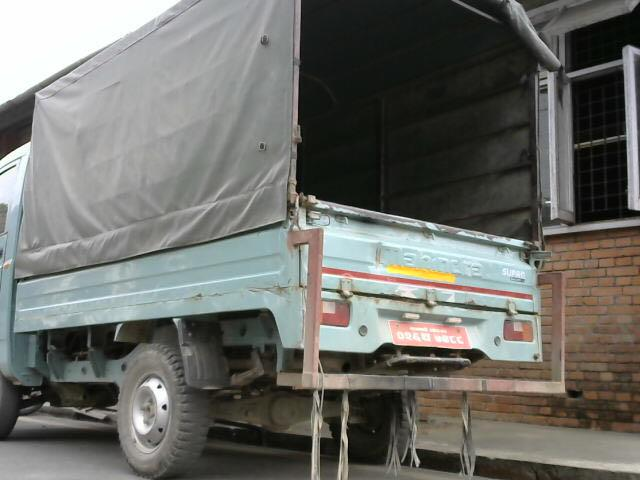Motorcycle: (9, 0, 564, 474)
